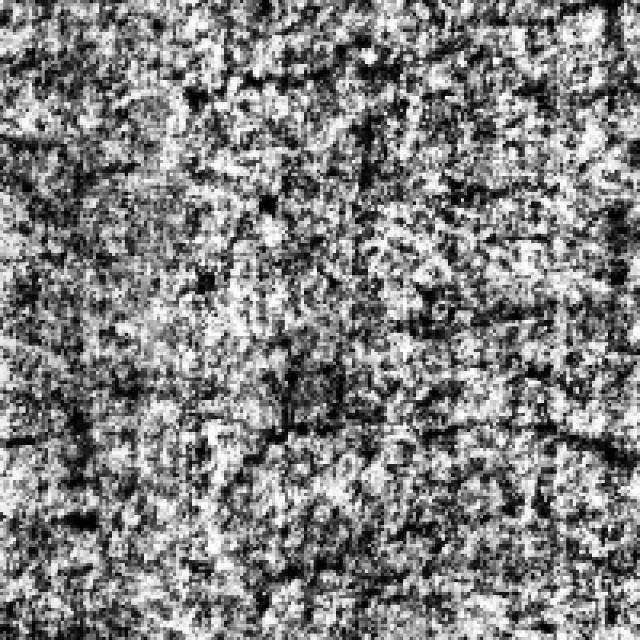Pitted_Surface: (214, 412, 637, 618), (175, 6, 550, 208)
